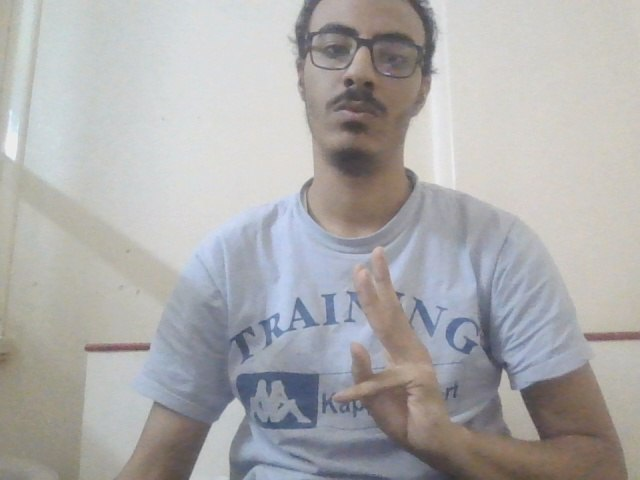Water: (330, 246, 471, 459)
